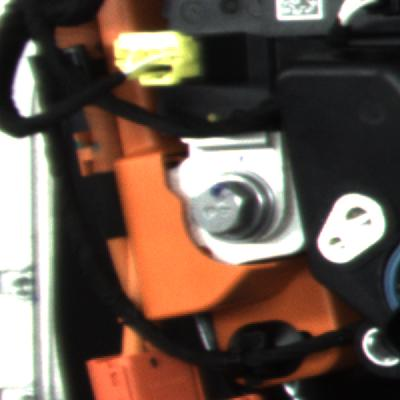nut_b: (190, 159, 288, 255)
